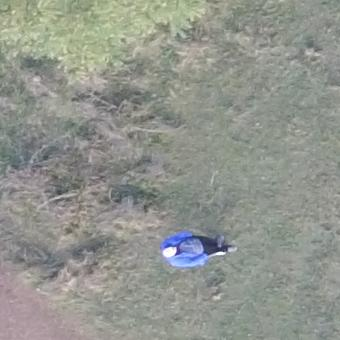human: (160, 226, 237, 268)
